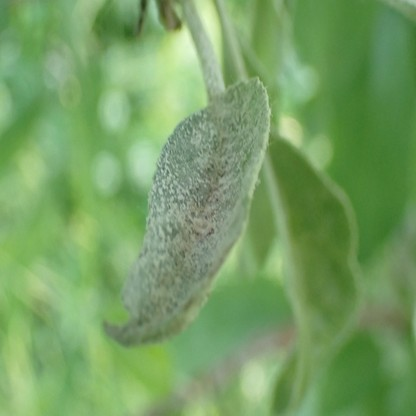powdery_mildew: (102, 77, 270, 346)
